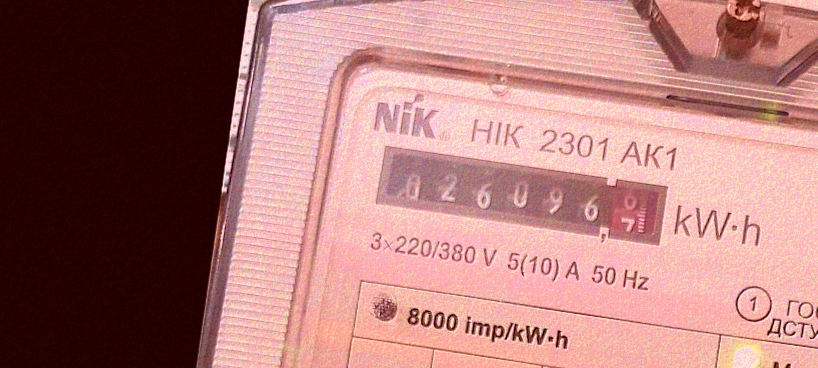0: (508, 176, 532, 213), (400, 168, 424, 203)
2: (436, 170, 462, 207)
6: (472, 177, 496, 214), (580, 189, 602, 225), (619, 185, 641, 214)
7: (616, 214, 637, 237)
9: (543, 184, 567, 218)
screen: (363, 135, 677, 259)
